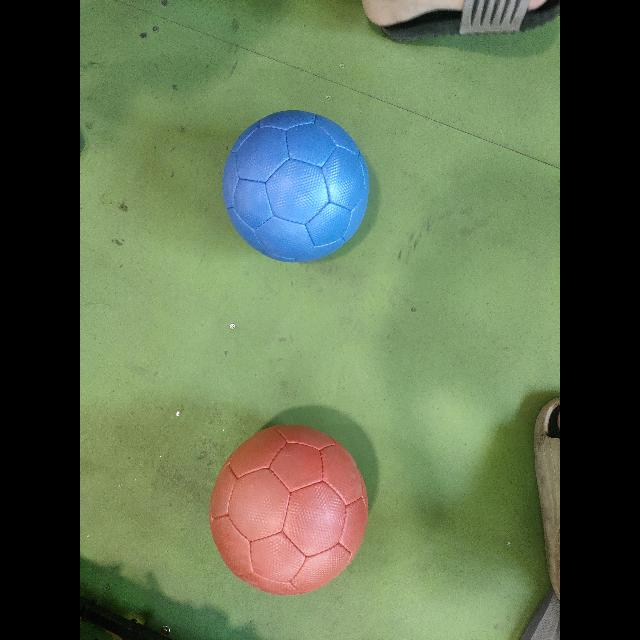B: (222, 111, 369, 261)
R: (210, 426, 368, 595)
